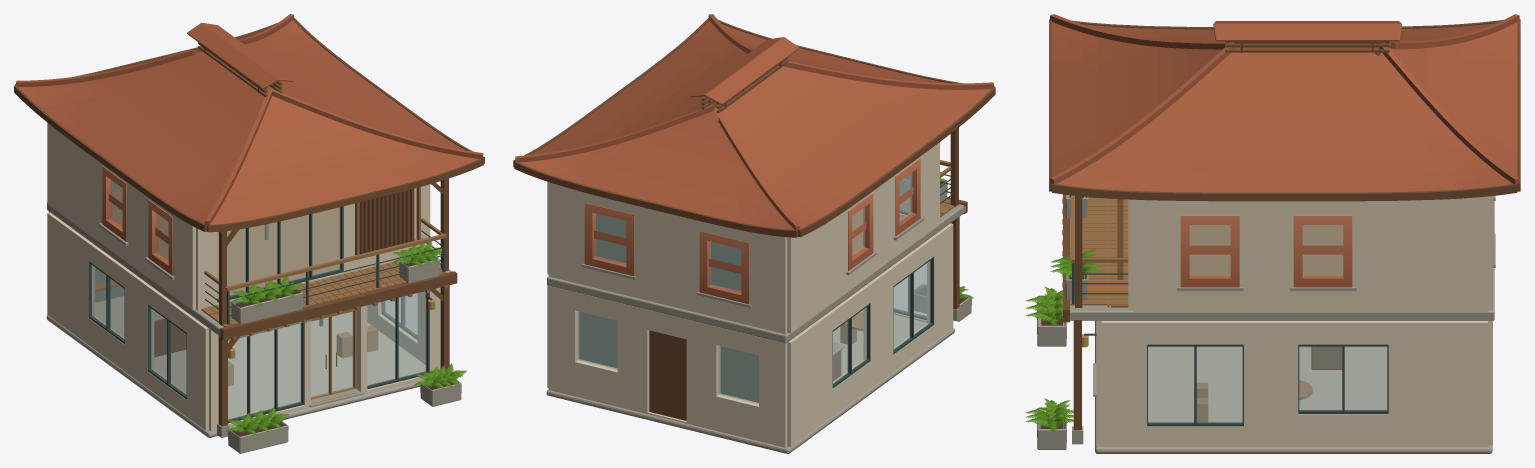
Rendered from kopi-awan-lod1.glb.
3 renders of one model, left to right at view 1: azimuth 30°, elevation 25°; view 2: azimuth 150°, elevation 25°; view 3: azimuth 270°, elevation 25°, orthographic. The views are drawn at different scales.
Parts seen in each view (by area): view 1: RoofAModule.001, BuildingshellModule.001, ShopfrontanddoorsModule.001, InteriorModule.001, WindowsModule.001, BalconyModule.001, PlantersModule.001, TimberstructuresModule.001, SunscreensModule.001; view 2: BuildingshellModule.001, RoofAModule.001, WindowsModule.001, InteriorModule.001, ShopfrontanddoorsModule.001, TimberstructuresModule.001, PlantersModule.001, BalconyModule.001; view 3: BuildingshellModule.001, RoofAModule.001, WindowsModule.001, BalconyModule.001, InteriorModule.001, PlantersModule.001, TimberstructuresModule.001, SunscreensModule.001.
Boxes of the visible parts, left/top/right/bottom form: RoofAModule.001: left=14, top=14, right=484, bottom=232; BuildingshellModule.001: left=46, top=122, right=451, bottom=437; ShopfrontanddoorsModule.001: left=217, top=206, right=428, bottom=423; InteriorModule.001: left=95, top=181, right=378, bottom=386; WindowsModule.001: left=88, top=166, right=417, bottom=399; BalconyModule.001: left=201, top=218, right=457, bottom=340; PlantersModule.001: left=226, top=241, right=466, bottom=453; TimberstructuresModule.001: left=217, top=178, right=449, bottom=437; SunscreensModule.001: left=355, top=187, right=420, bottom=255; BuildingshellModule.001: left=546, top=142, right=965, bottom=453; RoofAModule.001: left=513, top=14, right=995, bottom=237; WindowsModule.001: left=577, top=158, right=933, bottom=404; InteriorModule.001: left=579, top=208, right=903, bottom=402; ShopfrontanddoorsModule.001: left=649, top=174, right=926, bottom=420; TimberstructuresModule.001: left=950, top=127, right=961, bottom=321; PlantersModule.001: left=900, top=172, right=973, bottom=321; BalconyModule.001: left=900, top=160, right=967, bottom=217; BuildingshellModule.001: left=1067, top=196, right=1494, bottom=453; RoofAModule.001: left=1049, top=14, right=1520, bottom=201; WindowsModule.001: left=1147, top=195, right=1495, bottom=426; BalconyModule.001: left=1063, top=194, right=1128, bottom=322; InteriorModule.001: left=1110, top=225, right=1343, bottom=422; PlantersModule.001: left=1025, top=194, right=1102, bottom=449; TimberstructuresModule.001: left=1062, top=196, right=1083, bottom=444; SunscreensModule.001: left=1117, top=199, right=1123, bottom=279.
Bounding box in the file's own units: 8.74 × 8.81 × 10.98.
18 materials, 2 textured.
